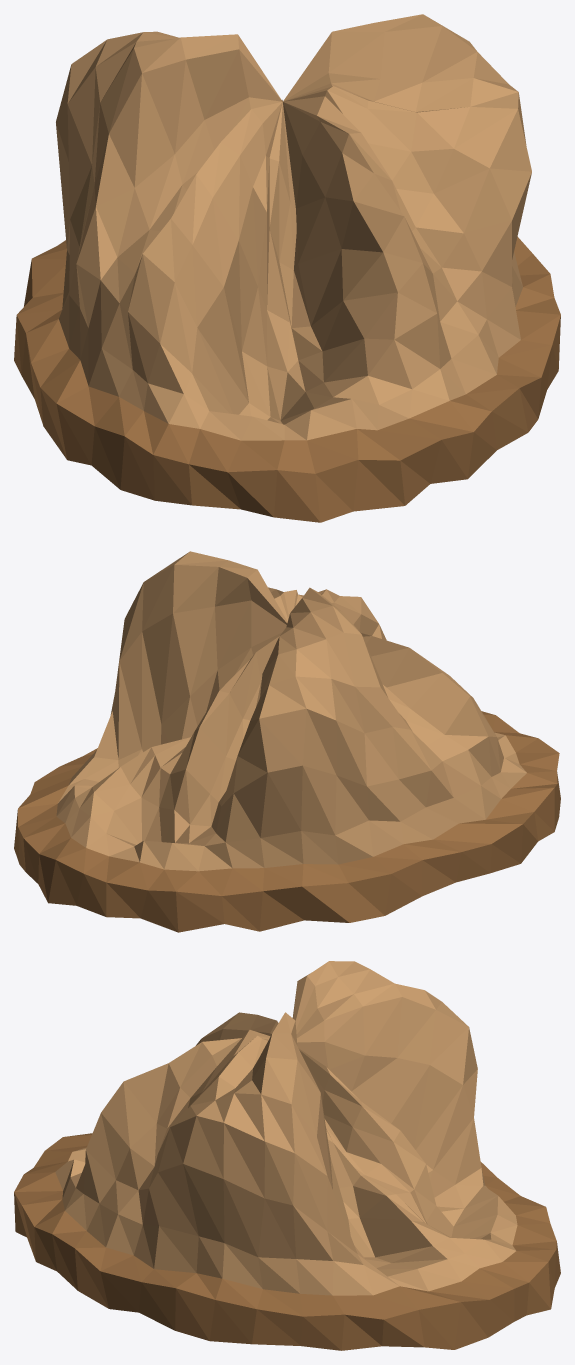
The model's file is walnut.glb.
3 renders of one model, top to bottom at view 1: azimuth 30°, elevation 25°; view 2: azimuth 150°, elevation 25°; view 3: azimuth 270°, elevation 25°, orthographic. The views are drawn at different scales.
Size of the model in its own units: 1 by 0.6077 by 1.13.
